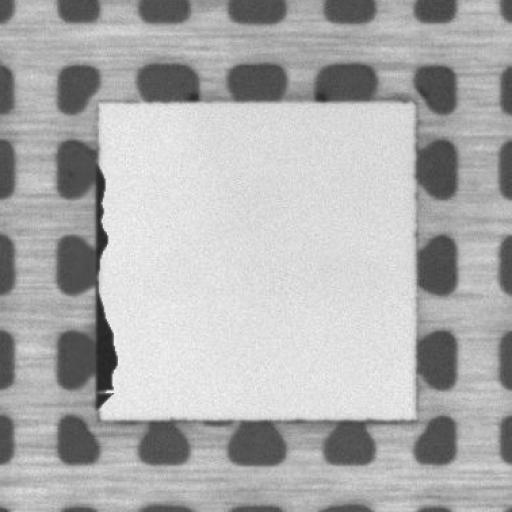DIE_BROKEN: (90, 164, 119, 408)
